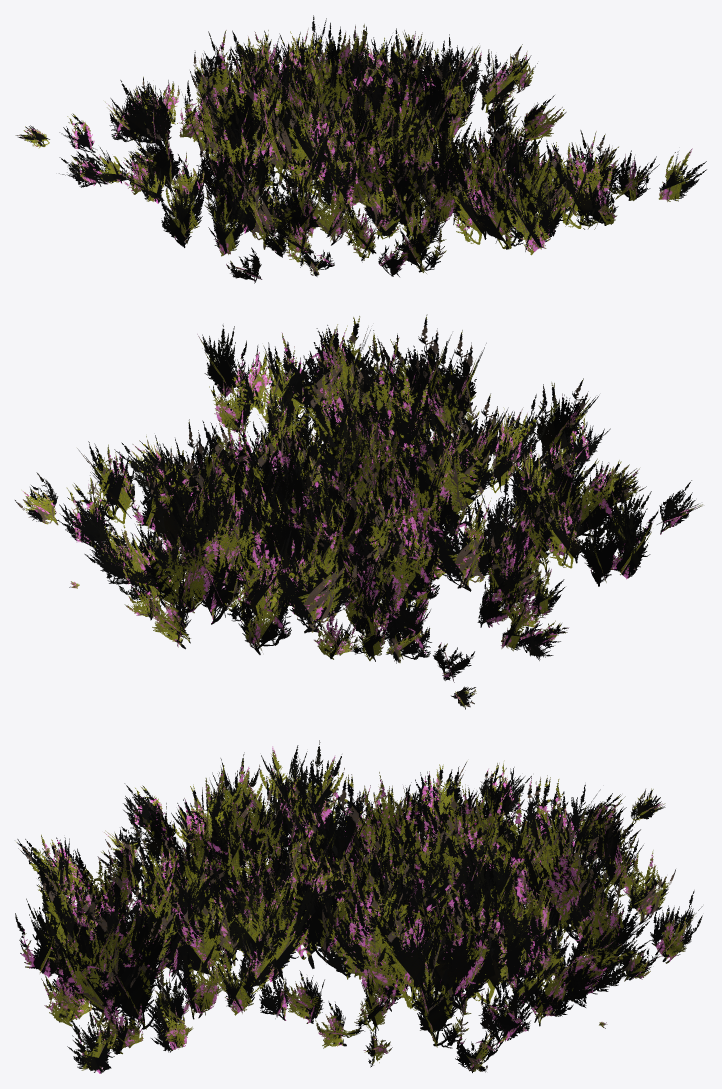
Rendered from heather_clump_03_LOD0.fbx.
3 views of the same model, one above another, from view 1: azimuth 30°, elevation 25°; view 2: azimuth 150°, elevation 25°; view 3: azimuth 270°, elevation 25° (orthographic). The views are drawn at different scales.
Visible parts, largest first — view 1: heather_clump_03_LOD0; view 2: heather_clump_03_LOD0; view 3: heather_clump_03_LOD0.
Boxes of the visible parts, bbox=[...] form: heather_clump_03_LOD0: bbox=[15, 15, 706, 283]; heather_clump_03_LOD0: bbox=[15, 314, 702, 709]; heather_clump_03_LOD0: bbox=[15, 740, 702, 1073].
Bounding box in the file's own units: 974 × 219 × 977.
